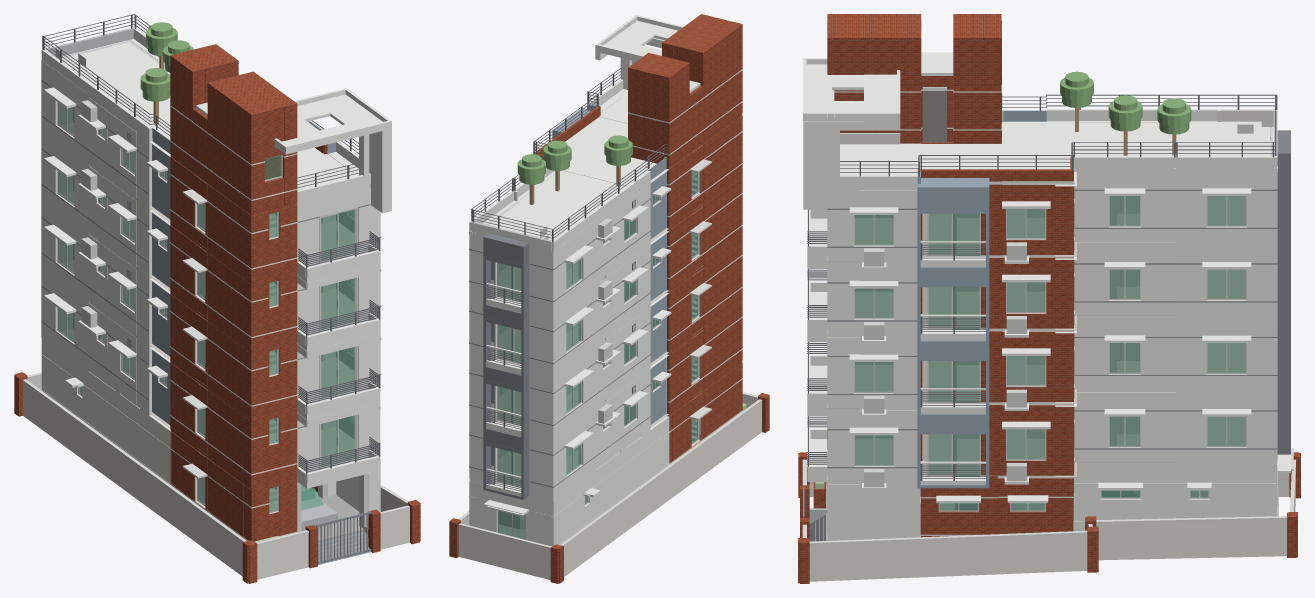
3 renders of one model, left to right at view 1: azimuth 30°, elevation 25°; view 2: azimuth 150°, elevation 25°; view 3: azimuth 270°, elevation 25°, orthographic. The views are drawn at different scales.
Parts seen in each view (by area): view 1: BOUNDARY#2033, pylon_head#1639, GROUND_FLOOR/full_wall#3415, pylon_head#1640, slab#1638, zone#2841, zone#2773, zone#2875, zone#2807, pylon_head#1642, BOUNDARY#1991, zone#0 (+68 smaller); view 2: BOUNDARY#2033, pylon_head#1639, GROUND_FLOOR/full_wall#3415, pylon_head#1640, BOUNDARY#2029, slab#1632, his_balcony_frame/cheek#2565, zone#2841, zone#2807, zone#2875, zone#2773, pylon_head#1646 (+51 smaller); view 3: BOUNDARY#2017, BOUNDARY#2025, pylon_head#1642, pylon_head#1643, GROUND_FLOOR/full_wall#3740, his_balcony_frame/cheek#2566, slab#1629, crown_support#1804, slab#1638, slab#1632, GROUND_FLOOR/room_wall#3338, slab#1625 (+120 smaller).
Boxes of the visible parts, x1=… form: BOUNDARY#2033: x1=23, y1=382, x2=242, y2=576; pylon_head#1639: x1=207, y1=79, x2=264, y2=213; GROUND_FLOOR/full_wall#3415: x1=89, y1=372, x2=170, y2=482; pylon_head#1640: x1=170, y1=52, x2=205, y2=170; slab#1638: x1=62, y1=42, x2=170, y2=91; zone#2841: x1=211, y1=256, x2=249, y2=349; zone#2773: x1=211, y1=393, x2=249, y2=486; zone#2875: x1=211, y1=187, x2=249, y2=280; zone#2807: x1=211, y1=324, x2=249, y2=417; pylon_head#1642: x1=240, y1=71, x2=297, y2=205; BOUNDARY#1991: x1=257, y1=533, x2=308, y2=579; zone#0: x1=211, y1=462, x2=243, y2=536; BOUNDARY#2033: x1=564, y1=402, x2=761, y2=576; pylon_head#1639: x1=691, y1=21, x2=742, y2=141; GROUND_FLOOR/full_wall#3415: x1=596, y1=416, x2=669, y2=516; pylon_head#1640: x1=657, y1=60, x2=689, y2=166; BOUNDARY#2029: x1=458, y1=526, x2=550, y2=579; slab#1632: x1=518, y1=170, x2=626, y2=217; his_balcony_frame/cheek#2565: x1=521, y1=242, x2=529, y2=499; zone#2841: x1=706, y1=179, x2=741, y2=262; zone#2807: x1=706, y1=241, x2=741, y2=324; zone#2875: x1=706, y1=117, x2=741, y2=200; zone#2773: x1=706, y1=303, x2=741, y2=386; pylon_head#1646: x1=639, y1=55, x2=677, y2=163; BOUNDARY#2017: x1=809, y1=534, x2=1087, y2=581; BOUNDARY#2025: x1=1096, y1=519, x2=1286, y2=560; pylon_head#1642: x1=827, y1=31, x2=921, y2=143; pylon_head#1643: x1=953, y1=31, x2=1001, y2=143; GROUND_FLOOR/full_wall#3740: x1=827, y1=484, x2=920, y2=540; his_balcony_frame/cheek#2566: x1=1277, y1=152, x2=1290, y2=454; slab#1629: x1=1002, y1=122, x2=1074, y2=177; crown_support#1804: x1=803, y1=121, x2=839, y2=209; slab#1638: x1=1176, y1=122, x2=1269, y2=156; slab#1632: x1=1074, y1=122, x2=1172, y2=156; GROUND_FLOOR/room_wall#3338: x1=1221, y1=466, x2=1273, y2=517; slab#1625: x1=921, y1=144, x2=1001, y2=169.
Bounding box in the file's own units: 8.06 × 20.24 × 18.89.
27 materials, 2 textured.
